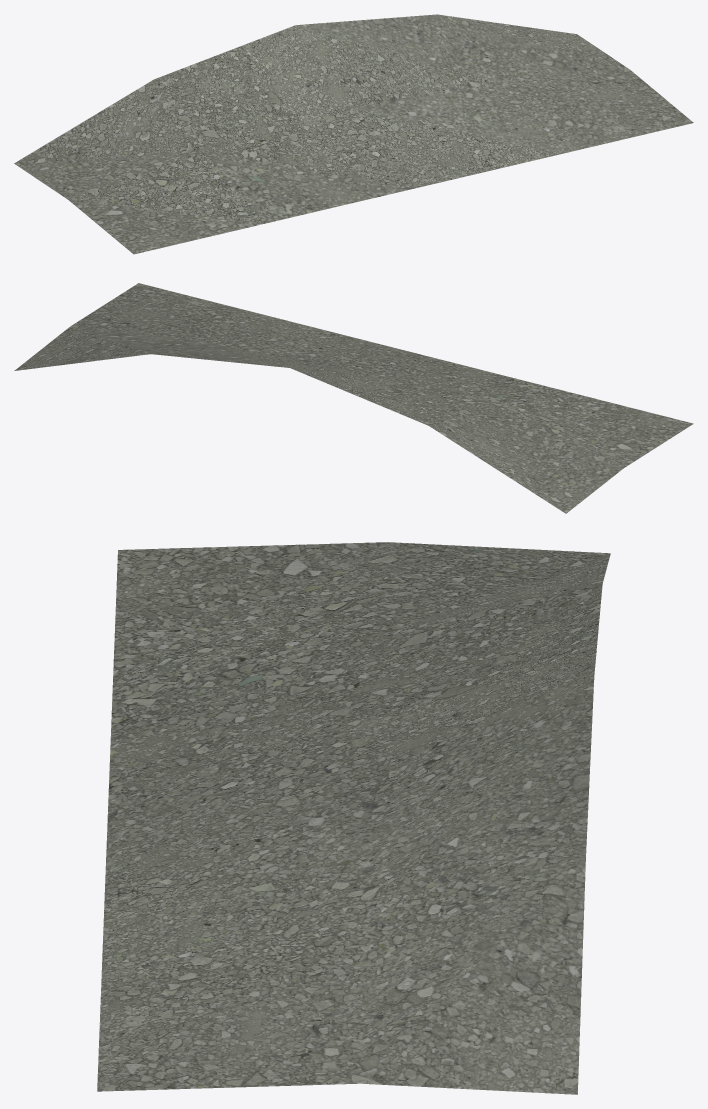
3 renders of one model, top to bottom at view 1: azimuth 30°, elevation 25°; view 2: azimuth 150°, elevation 25°; view 3: azimuth 270°, elevation 25°, orthographic. The views are drawn at different scales.
Visible parts, largest first — view 1: SM_HK_01_10; view 2: SM_HK_01_10; view 3: SM_HK_01_10.
Part boxes in pixels (x1=…): SM_HK_01_10: x1=14, y1=14, x2=693, y2=254; SM_HK_01_10: x1=14, y1=283, x2=693, y2=513; SM_HK_01_10: x1=97, y1=542, x2=610, y2=1094.
Size of the model in its own units: 505 by 63.67 by 201.
